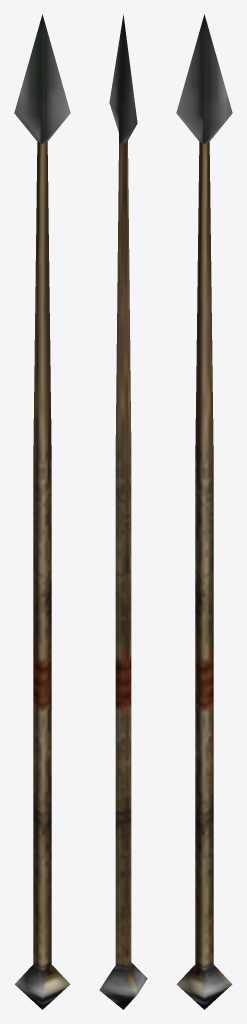
Rendered from pers_cav_lance.dae.
The picture shows the model from 3 angles, left to right: view 1: azimuth 90°, elevation 25°; view 2: azimuth 210°, elevation 25°; view 3: azimuth 270°, elevation 25°; orthographic projection.
Parts seen in each view (by area): view 1: pers_lance; view 2: pers_lance; view 3: pers_lance.
Boxes of the visible parts, <box> form: pers_lance: <box>14,14,70,1009</box>; pers_lance: <box>99,14,147,1009</box>; pers_lance: <box>176,14,232,1009</box>.
Size of the model in its own units: 0.3008 by 5.9 by 0.3029.
